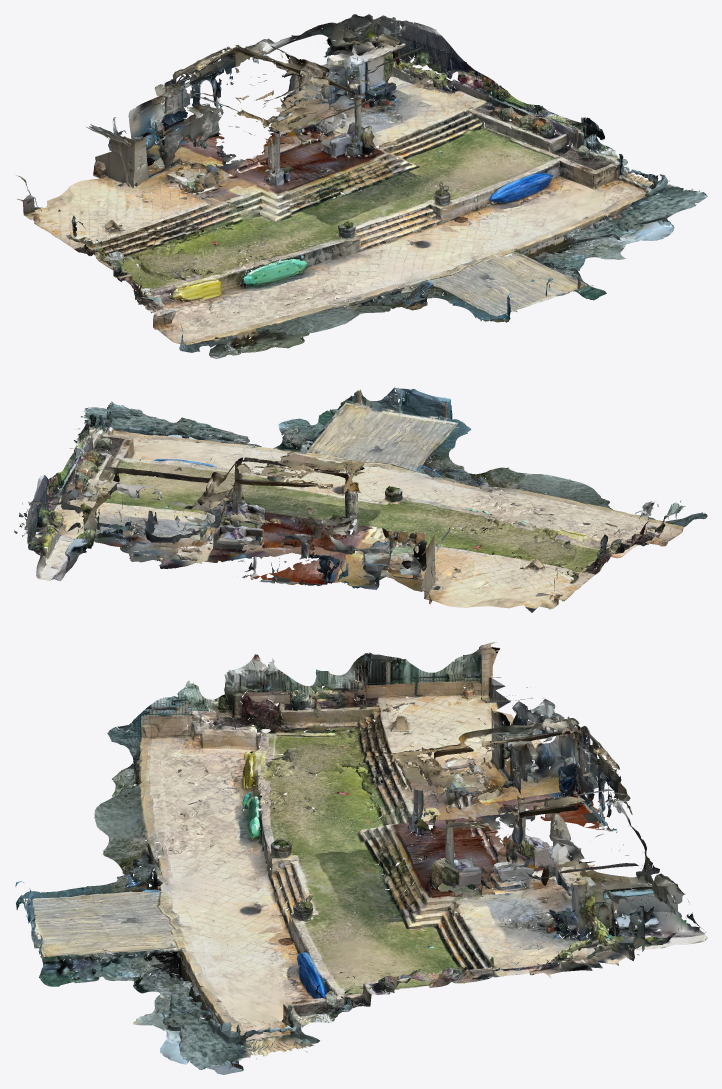
The model's file is garden04.glb.
3 views of the same model, one above another, from view 1: azimuth 30°, elevation 25°; view 2: azimuth 150°, elevation 25°; view 3: azimuth 270°, elevation 25° (orthographic). The views are drawn at different scales.
Visible parts, largest first — view 1: Mesh_2; view 2: Mesh_2; view 3: Mesh_2.
Boxes of the visible parts, <box> form: Mesh_2: <box>15,14,707,358</box>; Mesh_2: <box>14,387,707,612</box>; Mesh_2: <box>15,642,707,1074</box>.
Size of the model in its own units: 28.87 by 6.08 by 24.93.
16 materials, 16 textured.
